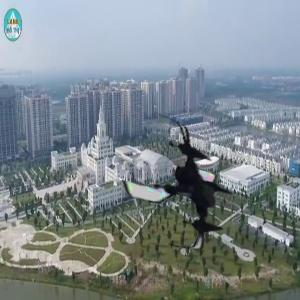drone: (109, 117, 244, 252)
